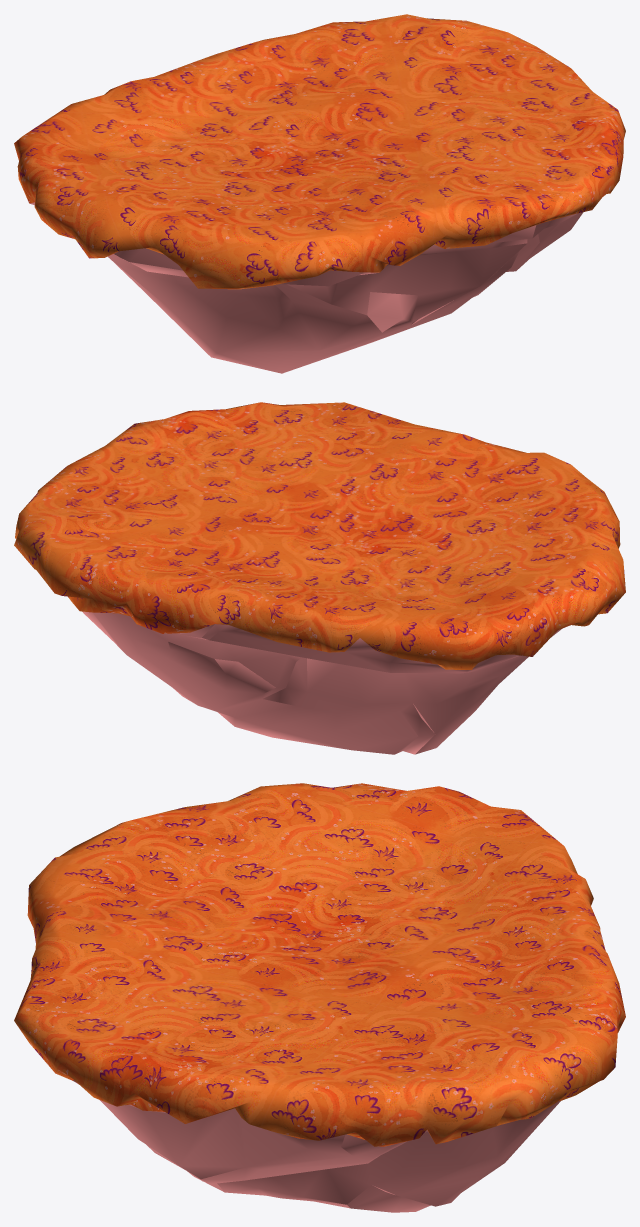
File: entity439600.gltf
3 renders of one model, top to bottom at view 1: azimuth 30°, elevation 25°; view 2: azimuth 150°, elevation 25°; view 3: azimuth 270°, elevation 25°, orthographic. The views are drawn at different scales.
Visible parts, largest first — view 1: node_Floating_island_01; view 2: node_Floating_island_01; view 3: node_Floating_island_01.
Boxes of the visible parts, x1,y1,x2,y2 form: node_Floating_island_01: (14, 14, 625, 373); node_Floating_island_01: (14, 402, 625, 754); node_Floating_island_01: (14, 783, 625, 1212).
Size of the model in its own units: 2856 by 1074 by 2271.
